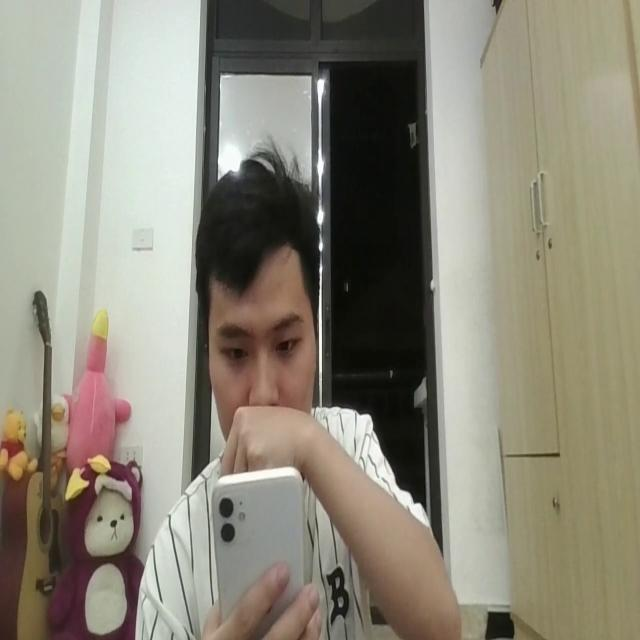phone: (211, 462, 306, 616)
student: (131, 144, 457, 640)
